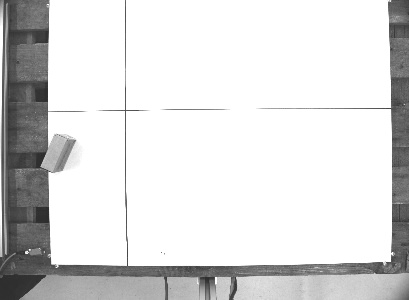b1: (39, 131, 77, 174)
